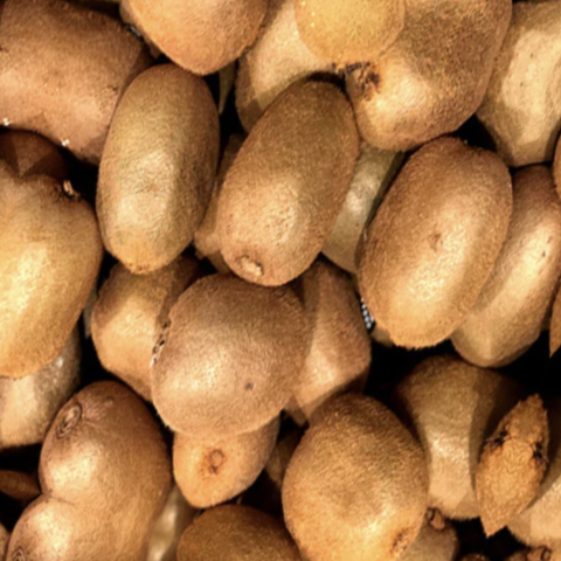kiwi: (327, 103, 540, 374), (98, 234, 333, 473), (42, 50, 262, 303), (187, 48, 387, 313), (248, 363, 472, 561), (0, 175, 132, 409)
